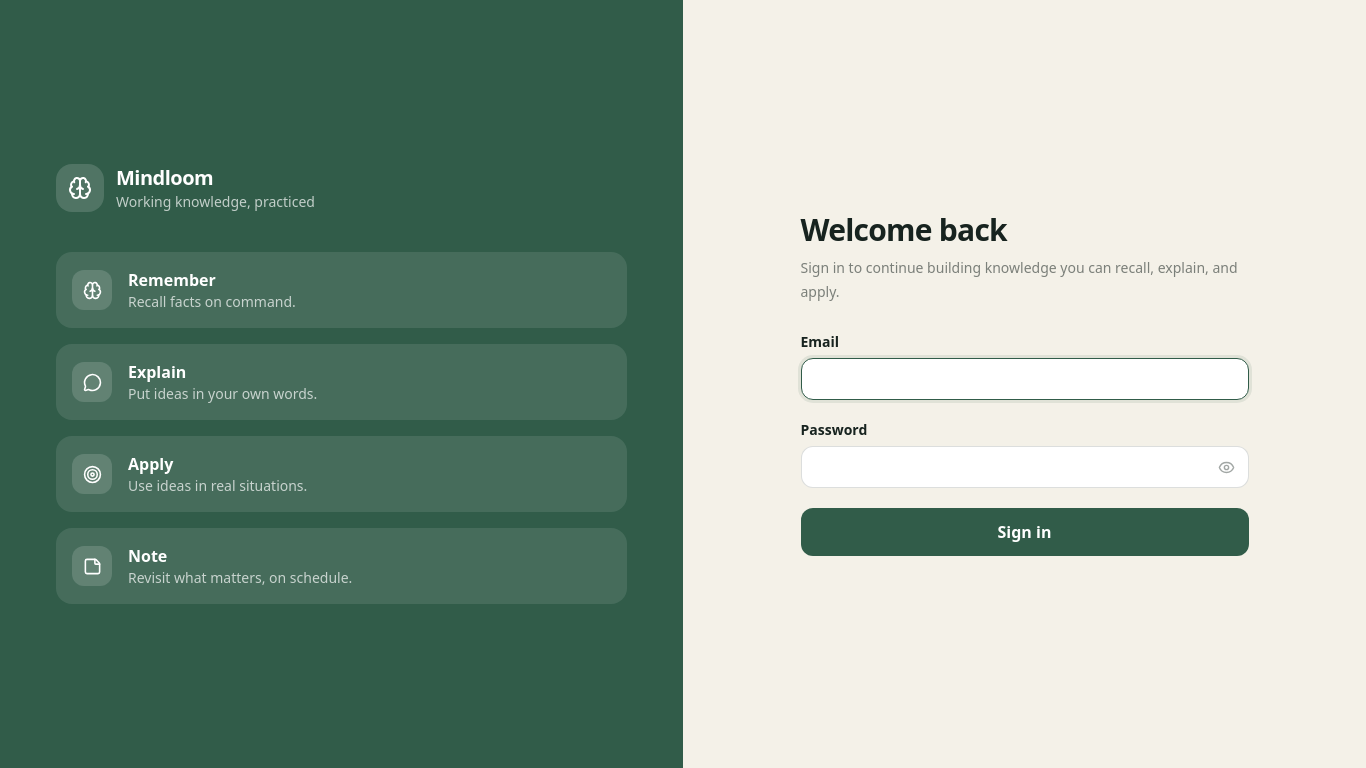
Test case: LoginPage › shows the API error and allows another attempt
Type "ada@example.com" into the field labelled "Email". click: (1024, 379)
box: [800,358,1248,400]
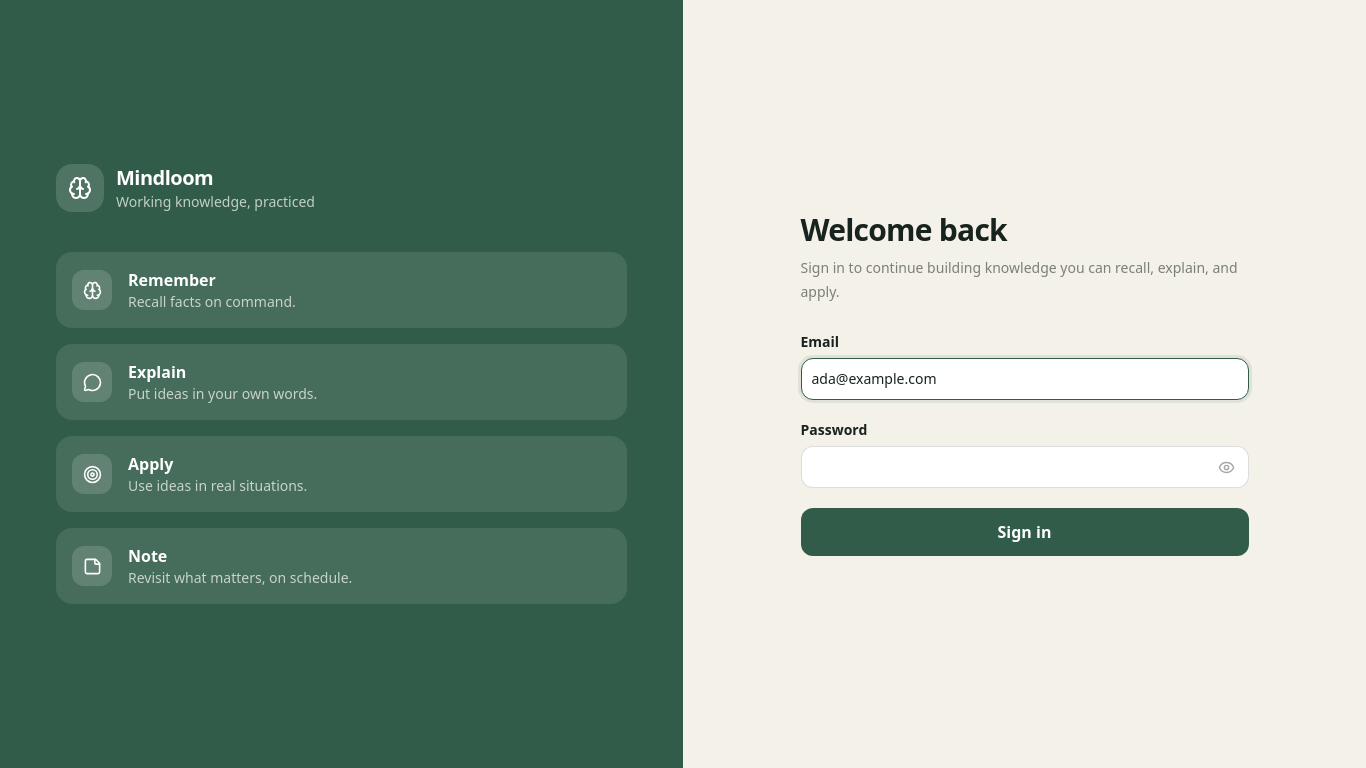
Type "wrong-password" into the password field labelled "Password". click: (1024, 467)
box: [800,446,1248,488]
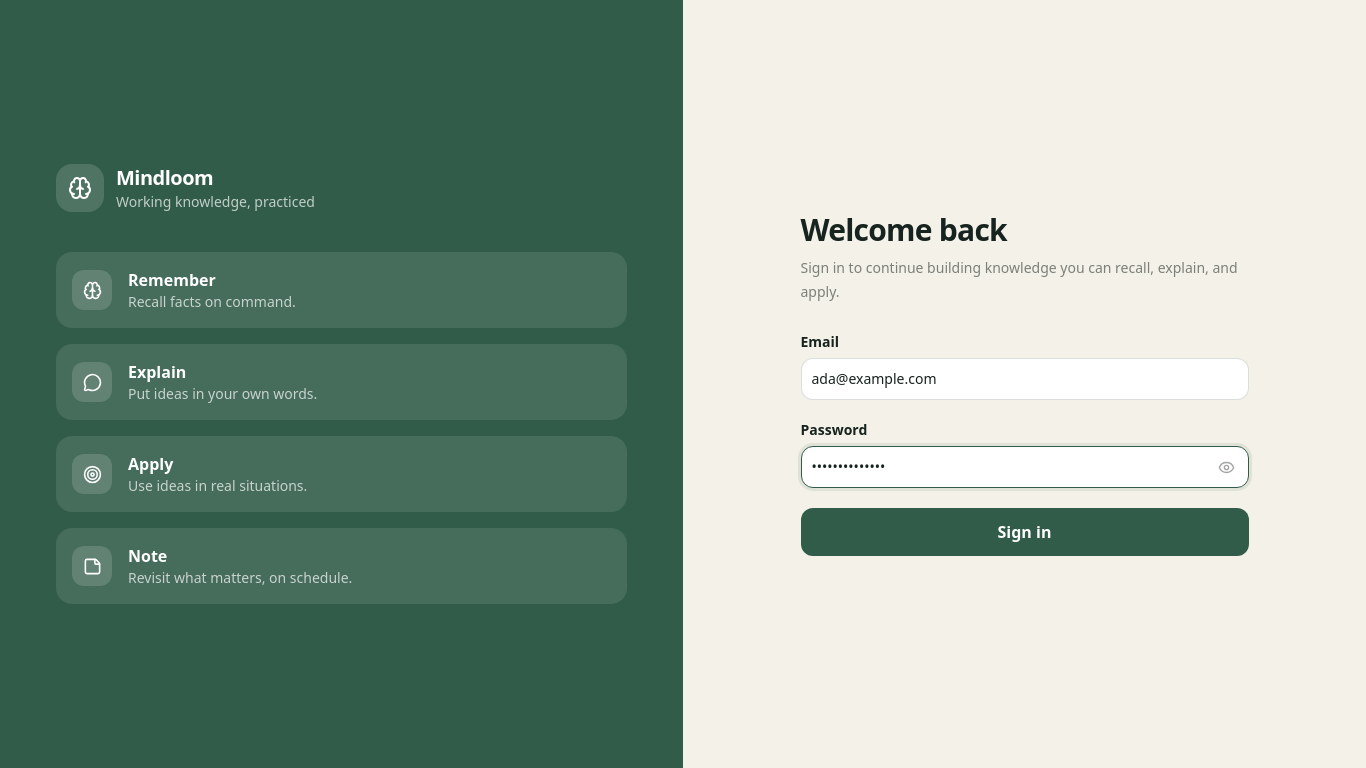
Click the button "Sign in". click: (1024, 532)
box: [800,508,1248,556]
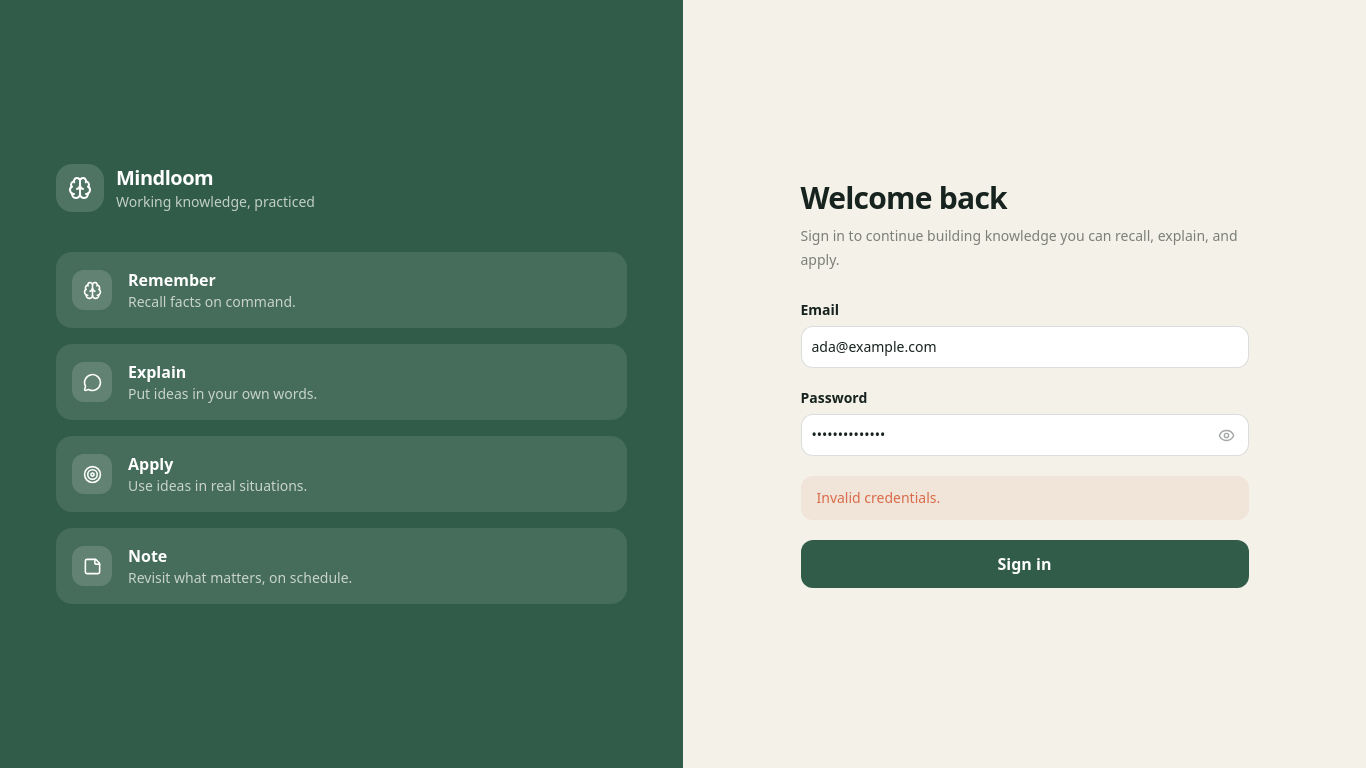
Expected: the button "Sign in" is enabled, [800,540,1248,588]
Expected: the message reads "Invalid credentials.", [816,488,940,507]
